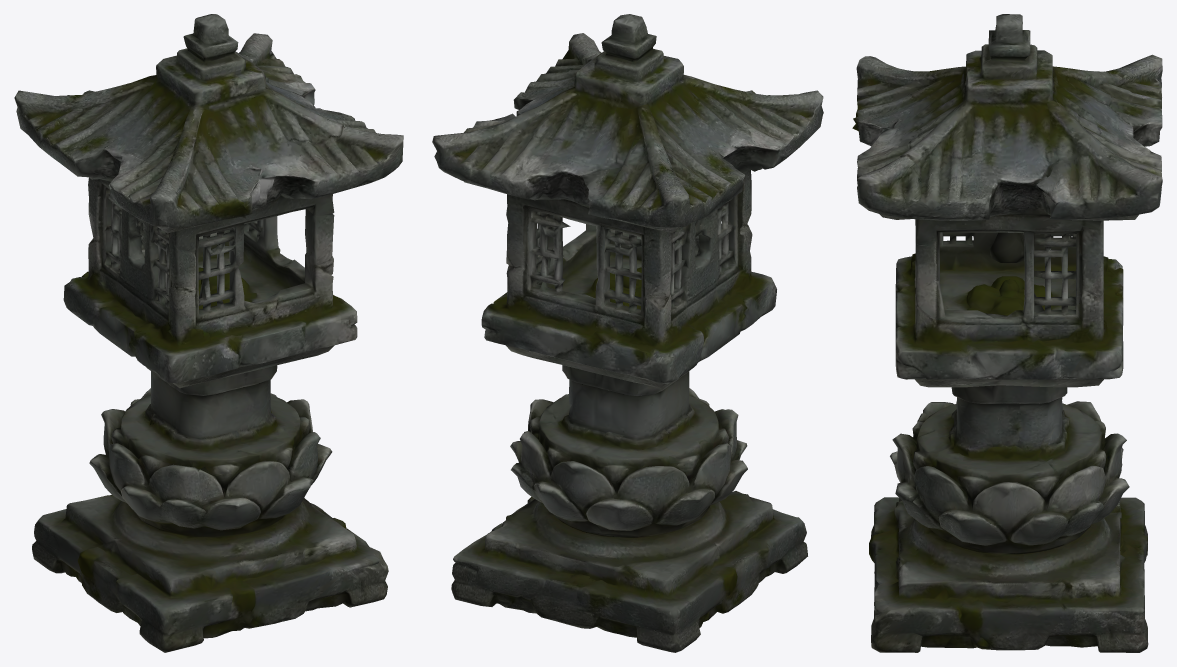
The picture shows the model from 3 angles, left to right: view 1: azimuth 30°, elevation 25°; view 2: azimuth 150°, elevation 25°; view 3: azimuth 270°, elevation 25°; orthographic projection. The views are drawn at different scales.
Visible parts, largest first — view 1: tripo_node_fb0f5f21-ff04-4aac-81aa-010db410f1a2; view 2: tripo_node_fb0f5f21-ff04-4aac-81aa-010db410f1a2; view 3: tripo_node_fb0f5f21-ff04-4aac-81aa-010db410f1a2.
Boxes of the visible parts, <box> form: tripo_node_fb0f5f21-ff04-4aac-81aa-010db410f1a2: <box>14,14,403,652</box>; tripo_node_fb0f5f21-ff04-4aac-81aa-010db410f1a2: <box>432,14,823,652</box>; tripo_node_fb0f5f21-ff04-4aac-81aa-010db410f1a2: <box>852,14,1162,652</box>.
Bounding box in the file's own units: 0.4701 × 1 × 0.4832.
1 material, 1 textured.
